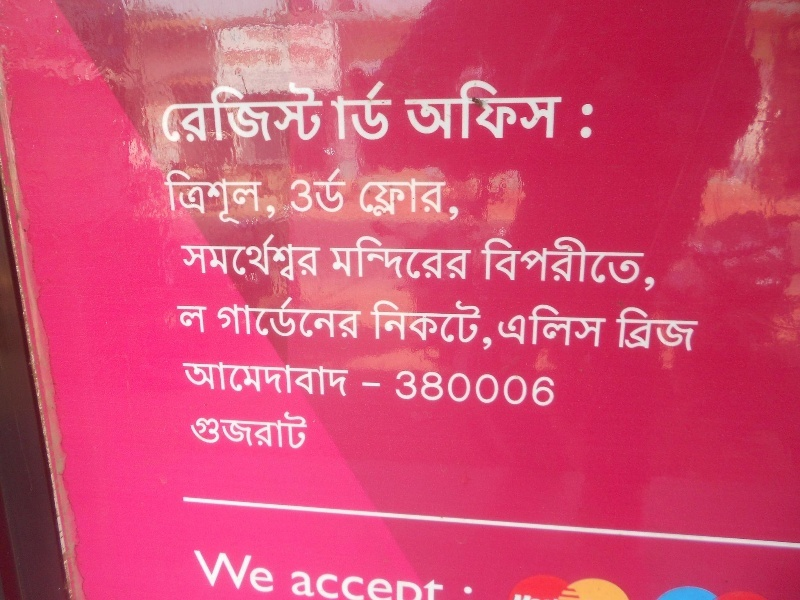text: (417, 75, 432, 148), (433, 75, 448, 148), (449, 75, 464, 148), (465, 75, 480, 148), (481, 75, 496, 148), (497, 75, 512, 148), (513, 75, 528, 148), (529, 75, 544, 148), (545, 75, 560, 148), (177, 81, 192, 152), (193, 81, 208, 152), (209, 81, 224, 152), (225, 81, 240, 152), (241, 81, 256, 152), (257, 81, 272, 152), (273, 81, 288, 152), (289, 81, 304, 152), (305, 81, 320, 152), (321, 81, 336, 152), (337, 81, 352, 152), (353, 81, 368, 152), (369, 81, 384, 152), (385, 81, 400, 152), (481, 236, 496, 293), (497, 236, 512, 293), (513, 236, 528, 293), (529, 236, 544, 293), (545, 236, 560, 293), (561, 236, 576, 293), (577, 236, 592, 293), (593, 236, 608, 293), (609, 236, 624, 293), (625, 236, 640, 293), (641, 236, 656, 293), (177, 169, 192, 225), (193, 169, 208, 225), (209, 169, 224, 225), (225, 169, 240, 225), (241, 169, 256, 225), (257, 169, 272, 225), (225, 293, 240, 347), (241, 293, 256, 347), (257, 293, 272, 347), (273, 293, 288, 347), (289, 293, 304, 347), (305, 293, 320, 347), (321, 293, 336, 347), (337, 293, 352, 347), (369, 298, 384, 352), (385, 298, 400, 352), (401, 298, 416, 352), (417, 298, 432, 352), (433, 298, 448, 352), (449, 298, 464, 352), (465, 298, 480, 352), (162, 169, 176, 225), (193, 232, 208, 283), (209, 232, 224, 283), (225, 232, 240, 283), (241, 232, 256, 283), (257, 232, 272, 283), (273, 232, 288, 283), (289, 232, 304, 283), (305, 232, 320, 283), (625, 304, 640, 355), (641, 304, 656, 355), (657, 304, 672, 355), (673, 304, 688, 355), (353, 293, 367, 347), (481, 298, 495, 352), (406, 75, 416, 148), (321, 165, 336, 213), (193, 549, 208, 596), (209, 549, 224, 596), (225, 549, 240, 596), (241, 549, 256, 596), (257, 549, 272, 596), (337, 235, 352, 281), (353, 235, 368, 281), (369, 235, 384, 281), (385, 235, 400, 281), (401, 235, 416, 281), (417, 235, 432, 281), (433, 235, 448, 281), (449, 235, 464, 281), (513, 303, 528, 349), (529, 303, 544, 349), (545, 303, 560, 349), (561, 303, 576, 349), (577, 303, 592, 349), (593, 303, 608, 349), (689, 304, 702, 355), (369, 178, 384, 222), (385, 178, 400, 222), (401, 178, 416, 222), (417, 178, 432, 222), (433, 178, 448, 222), (167, 81, 176, 152), (193, 409, 208, 451), (209, 409, 224, 451), (225, 409, 240, 451), (241, 409, 256, 451), (257, 409, 272, 451), (273, 409, 288, 451), (289, 409, 304, 451), (180, 232, 192, 283), (499, 303, 512, 349), (193, 358, 208, 397), (209, 358, 224, 397), (225, 358, 240, 397), (241, 358, 256, 397), (257, 358, 272, 397), (273, 358, 288, 397), (289, 358, 304, 397), (305, 358, 320, 397), (321, 358, 336, 397), (337, 358, 352, 397), (369, 370, 384, 407), (385, 370, 400, 407), (401, 370, 416, 407), (417, 370, 432, 407), (433, 370, 448, 407), (449, 370, 464, 407), (465, 370, 480, 407), (481, 370, 496, 407), (497, 370, 512, 407), (513, 370, 528, 407), (529, 370, 544, 407), (337, 165, 348, 213), (305, 565, 320, 600), (321, 565, 336, 600), (337, 565, 352, 600), (353, 565, 368, 600), (369, 565, 384, 600), (385, 565, 400, 600), (401, 565, 416, 600), (417, 565, 432, 600), (433, 565, 448, 600), (449, 565, 464, 600), (465, 565, 480, 600), (290, 565, 304, 600), (357, 178, 368, 222), (449, 178, 460, 222), (545, 370, 558, 407), (177, 303, 192, 334), (193, 303, 208, 334), (580, 102, 592, 138), (181, 358, 192, 397), (291, 180, 304, 212), (327, 235, 336, 281), (465, 235, 474, 281), (616, 304, 624, 355), (313, 165, 320, 213), (218, 293, 224, 347), (561, 75, 565, 148), (305, 180, 314, 212), (273, 169, 277, 225), (362, 370, 368, 407), (273, 549, 277, 596), (481, 565, 486, 600), (401, 81, 403, 152), (513, 591, 528, 600), (529, 591, 544, 600), (305, 409, 308, 451), (545, 591, 559, 600), (657, 236, 659, 293), (190, 409, 192, 451), (593, 102, 595, 138), (367, 298, 368, 352), (321, 232, 322, 283), (609, 303, 610, 349), (509, 591, 512, 600)
